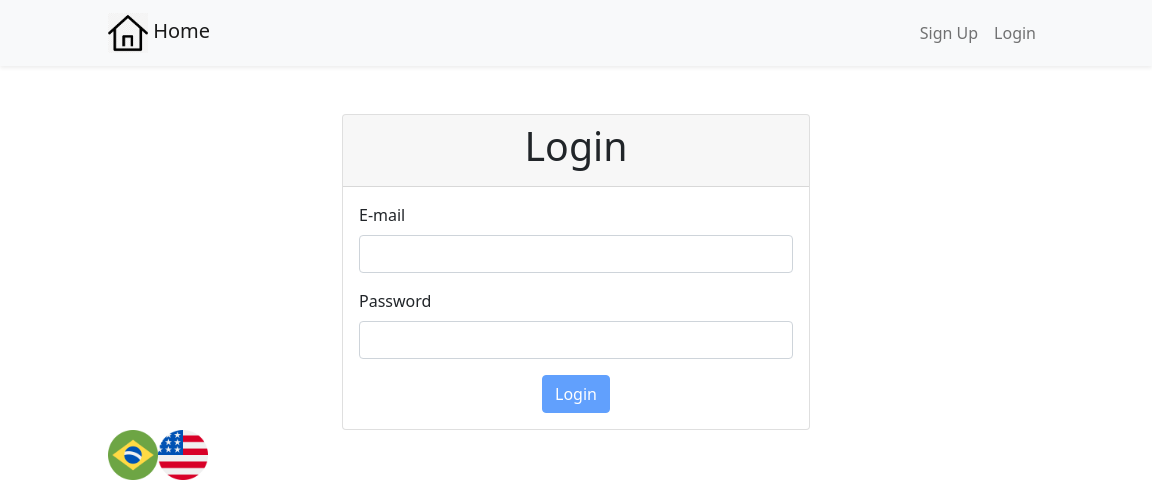
Test: Routing › displays home page when clicking brand logo
Click the picture with alt text "Home": point(128, 33) [108,13,148,53]
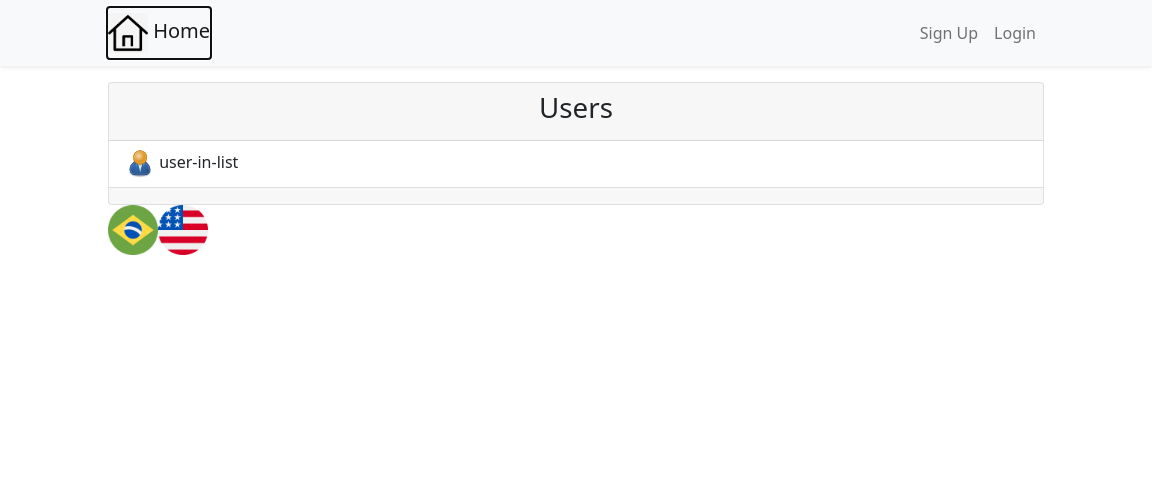
Expected: the element with test id "home-page" is shown, [108,82,1044,205]
